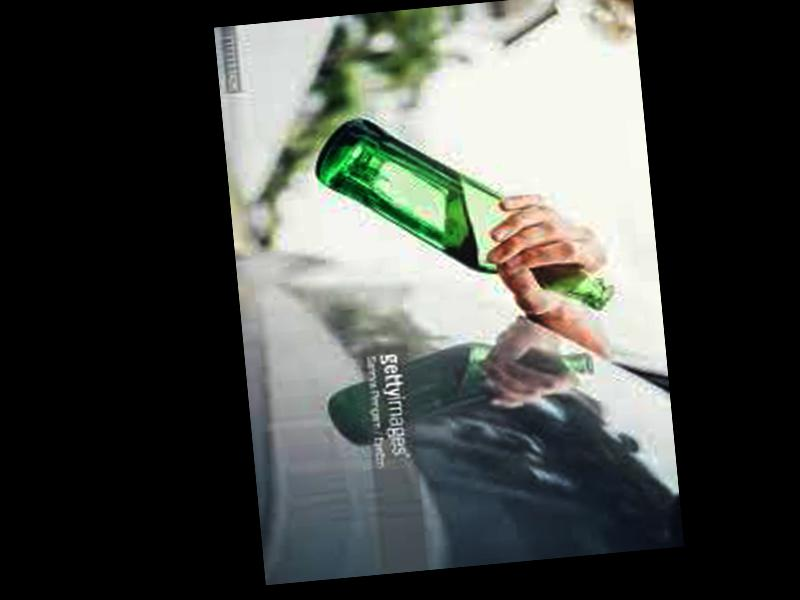Beer: (312, 97, 611, 338)
